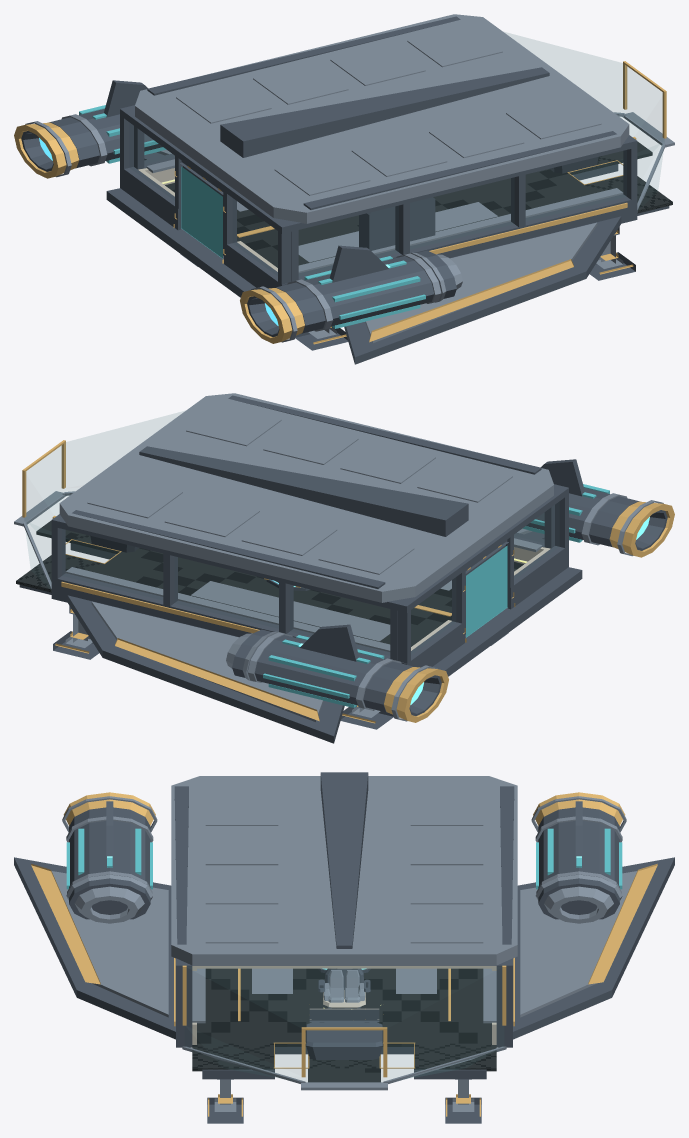
Rendered from salimon_phase0_ship.glb.
3 renders of one model, top to bottom at view 1: azimuth 30°, elevation 25°; view 2: azimuth 150°, elevation 25°; view 3: azimuth 270°, elevation 25°, orthographic. The views are drawn at different scales.
Parts seen in each view (by area): view 1: Hull_Roof, Roof_Service_Panels, Hull_Port_Side, Dorsal_Spine, Deck_Walkable, Hull_Aft_Cap, Wing_Port, Engine_Port, Wing_Port_Armor, Cockpit_Glazing, Roof_Shoulder_Rails, Hull_Belly (+22 smaller); view 2: Hull_Roof, Roof_Service_Panels, Deck_Walkable, Hull_Starboard_Side, Dorsal_Spine, Hull_Aft_Cap, Wing_Starboard, Engine_Starboard, Wing_Starboard_Armor, Cockpit_Glazing, Roof_Shoulder_Rails, Hull_Belly (+21 smaller); view 3: Hull_Roof, Deck_Walkable, Roof_Service_Panels, Wing_Port_Armor, Wing_Starboard_Armor, Dorsal_Spine, Wing_Port, Wing_Starboard, Engine_Port, Engine_Starboard, Roof_Shoulder_Rails, Cockpit_Console_Center (+24 smaller).
Part boxes in pixels (x1,y1,x2,y2): Hull_Roof: [135, 14, 629, 223]; Roof_Service_Panels: [176, 26, 601, 195]; Hull_Port_Side: [285, 135, 637, 281]; Dorsal_Spine: [220, 67, 549, 157]; Deck_Walkable: [165, 141, 672, 267]; Hull_Aft_Cap: [120, 106, 291, 289]; Wing_Port: [344, 216, 621, 364]; Engine_Port: [274, 250, 456, 333]; Wing_Port_Armor: [365, 222, 597, 342]; Cockpit_Glazing: [505, 32, 662, 136]; Roof_Shoulder_Rails: [147, 16, 616, 209]; Hull_Belly: [106, 164, 669, 297]; Hull_Roof: [59, 393, 553, 602]; Roof_Service_Panels: [87, 405, 512, 574]; Deck_Walkable: [16, 520, 523, 646]; Hull_Starboard_Side: [51, 514, 403, 660]; Dorsal_Spine: [139, 446, 468, 536]; Hull_Aft_Cap: [397, 485, 568, 668]; Wing_Starboard: [67, 595, 344, 743]; Engine_Starboard: [232, 629, 414, 712]; Wing_Starboard_Armor: [91, 601, 323, 721]; Cockpit_Glazing: [26, 411, 183, 515]; Roof_Shoulder_Rails: [72, 395, 541, 588]; Hull_Belly: [19, 543, 582, 676]; Hull_Roof: [171, 776, 517, 965]; Deck_Walkable: [192, 968, 496, 1082]; Roof_Service_Panels: [205, 794, 483, 943]; Wing_Port_Armor: [51, 871, 168, 1017]; Wing_Starboard_Armor: [520, 871, 637, 1017]; Dorsal_Spine: [320, 772, 368, 948]; Wing_Port: [14, 857, 175, 1039]; Wing_Starboard: [513, 857, 674, 1039]; Engine_Port: [69, 807, 150, 919]; Engine_Starboard: [538, 807, 619, 919]; Roof_Shoulder_Rails: [174, 786, 514, 944]; Cockpit_Console_Center: [306, 1022, 382, 1059].
Bounding box in the file's own units: 18.33 × 6 × 20.
Materials: 13 (1 with a texture image).
